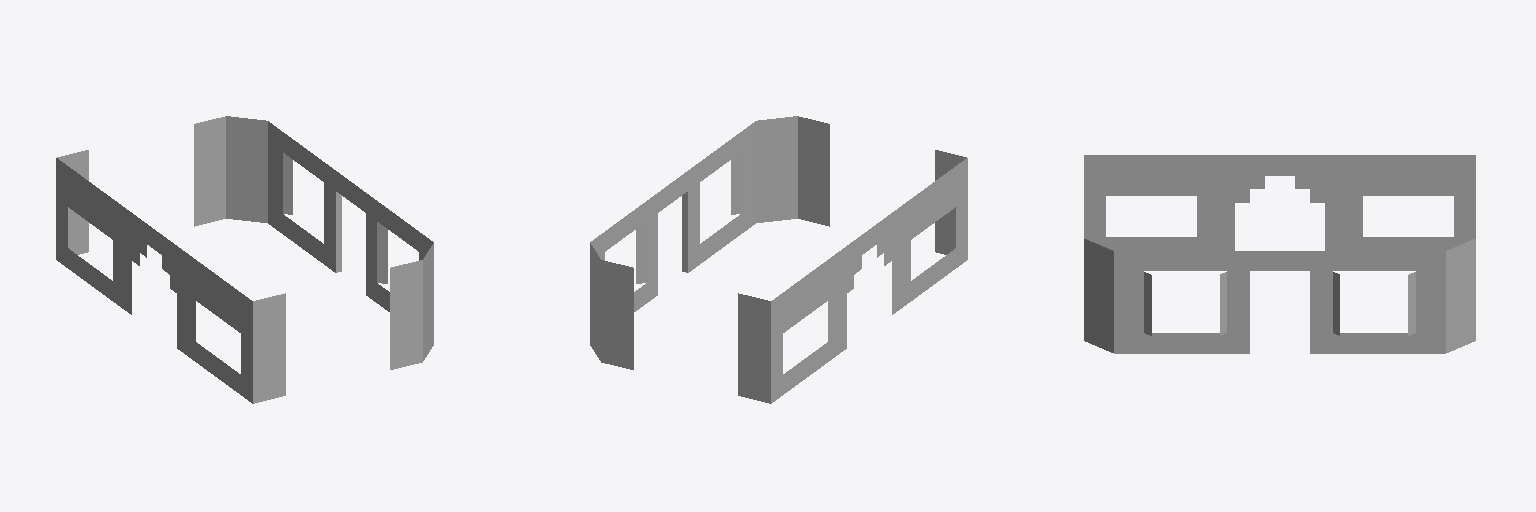
File: BRKBRN02-1.obj
3 renders of one model, left to right at view 1: azimuth 30°, elevation 25°; view 2: azimuth 150°, elevation 25°; view 3: azimuth 270°, elevation 25°, orthographic.
Visible parts, largest first — view 1: BRKBRN02.1; view 2: BRKBRN02.1; view 3: BRKBRN02.1.
Boxes of the visible parts, x1=… form: BRKBRN02.1: x1=56, y1=116, x2=433, y2=403; BRKBRN02.1: x1=590, y1=116, x2=967, y2=403; BRKBRN02.1: x1=1084, y1=155, x2=1475, y2=353.
Size of the model in its own units: 496 by 240 by 832.